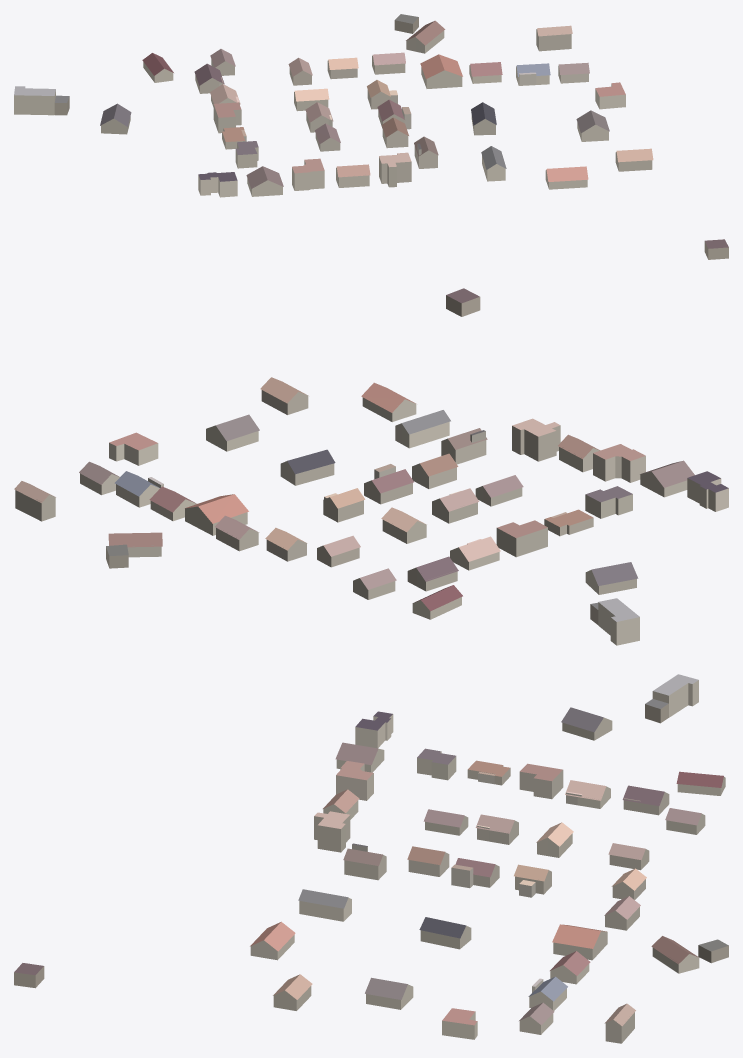
3 views of the same model, one above another, from view 1: azimuth 30°, elevation 25°; view 2: azimuth 150°, elevation 25°; view 3: azimuth 270°, elevation 25° (orthographic). The views are drawn at different scales.
Visible parts, largest first — view 1: tuile; view 2: tuile; view 3: tuile.
Boxes of the visible parts, x1,y1,x2,y2 form: tuile: (14, 14, 728, 259); tuile: (14, 288, 728, 645); tuile: (14, 674, 728, 1043).
Size of the model in its own units: 257 by 28.62 by 258.
